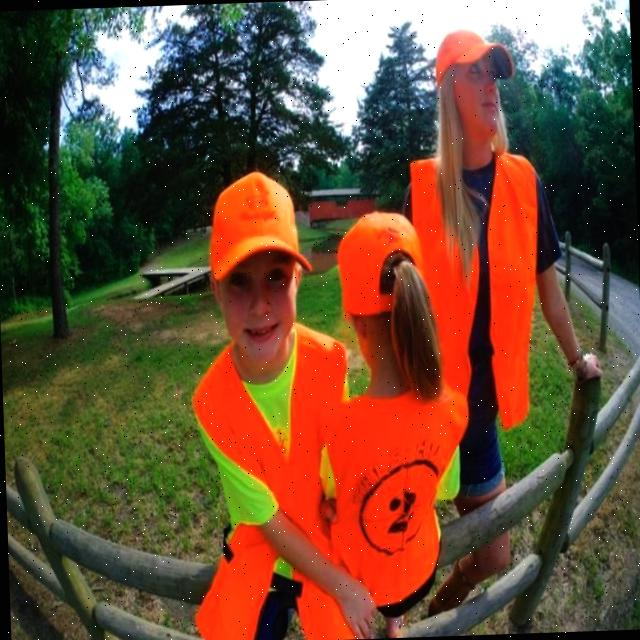vest: (202, 324, 329, 633), (406, 138, 542, 426), (324, 382, 454, 628)
